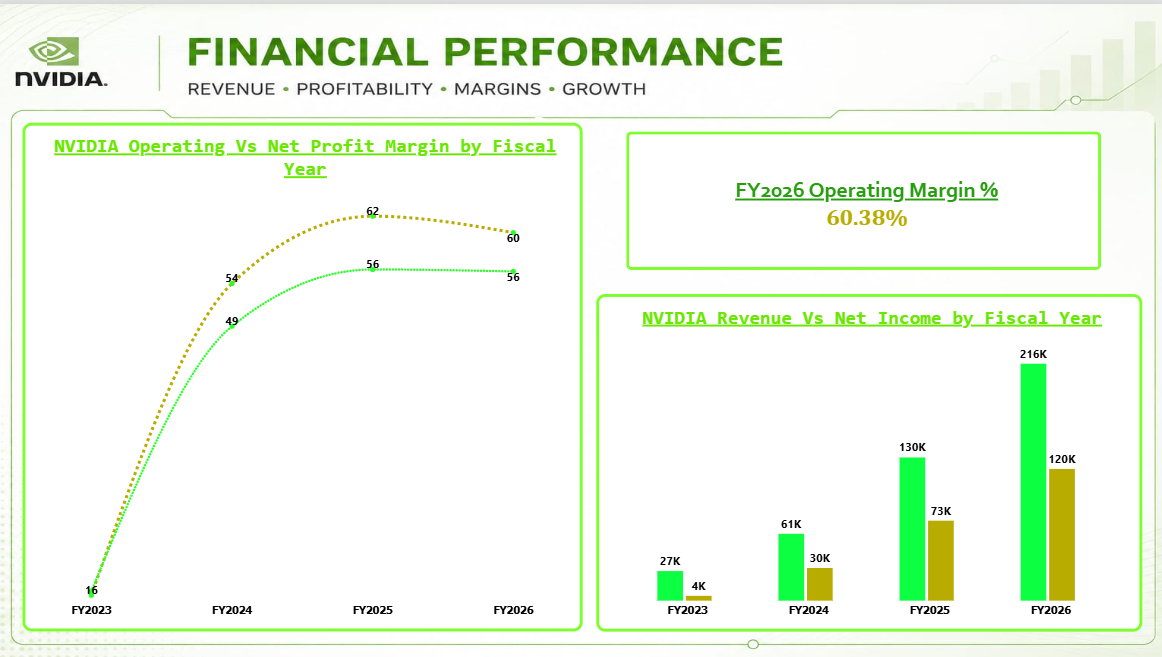

The dashboard page shown, as its layout file describes it:
{"tool":"powerbi","page":{"name":"Financial Performance","canvas":[1920,1080],"ordinal":2},"visuals":[{"type":"clusteredColumnChart","title":"NVIDIA Revenue Vs Net Income by Fiscal Year ","fields":{"Category":["NVIDIA_Financial_Data_Cleaned.fiscal_year"],"Y":["Sum(NVIDIA_Financial_Data_Cleaned.revenue_usd_millions)","Sum(NVIDIA_Financial_Data_Cleaned.net_income_usd_millions)"]},"box":[981.8,477.5,899.5,555.7],"z":0},{"type":"lineChart","title":"NVIDIA Operating Vs Net Profit Margin by Fiscal Year ","fields":{"Category":["NVIDIA_Financial_Data_Cleaned.fiscal_year"],"Y":["Sum(NVIDIA_Financial_Data_Cleaned.operating_margin_pct)","Sum(NVIDIA_Financial_Data_Cleaned.net_profit_margin_pct)"]},"box":[37,195.5,922.1,837.7],"z":1000},{"type":"cardVisual","fields":{"Data":["_Measures.FY2026 Operating Margin %"]},"box":[1031.2,209.9,782.2,228.5],"z":2000}]}

Visuals, with their boxes in screenshot pixels (x1, y1, x2, y2), scaled from the page's 1920x1080 canvas onto the 1162x657 screenshot:
"NVIDIA Revenue Vs Net Income by Fiscal Year " clusteredColumnChart: locate(594, 290, 1139, 629)
"NVIDIA Operating Vs Net Profit Margin by Fiscal Year " lineChart: locate(22, 119, 580, 629)
cardVisual - _Measures.FY2026 Operating Margin %: locate(624, 128, 1097, 267)
